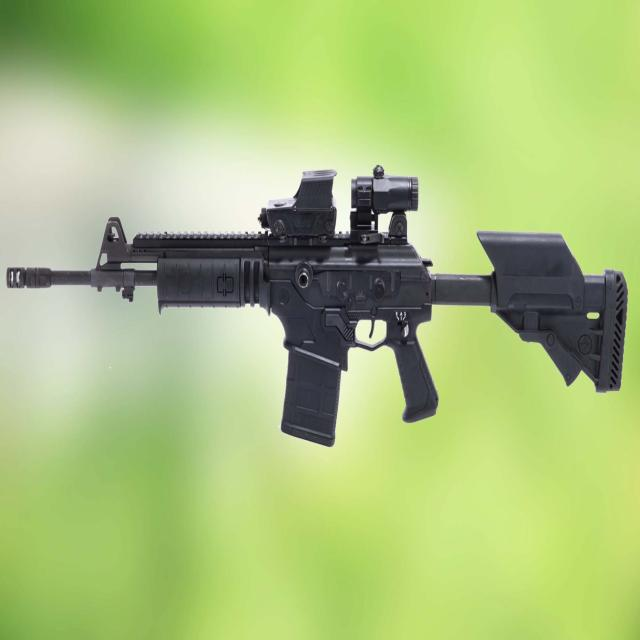Rifle: (5, 166, 629, 449)
